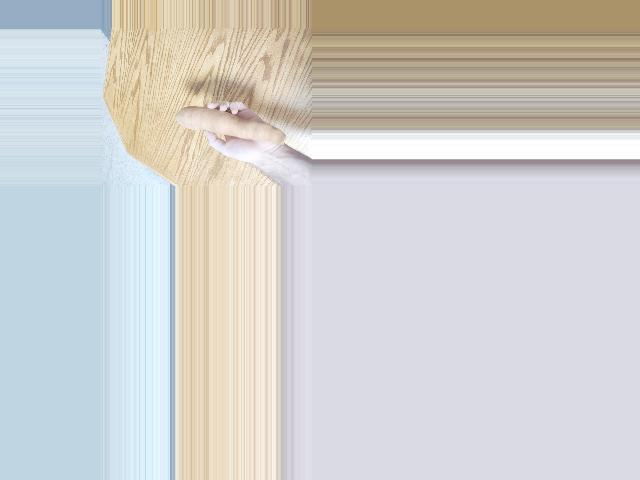sweet_potato: (170, 100, 279, 148)
